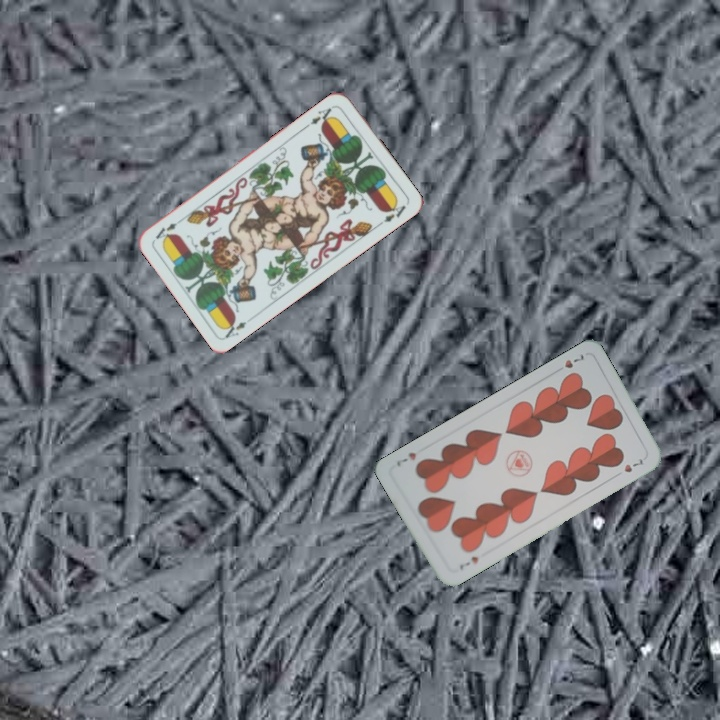EA: (302, 104, 336, 130), (219, 317, 249, 341)
H7: (551, 350, 588, 375), (455, 552, 481, 572)
